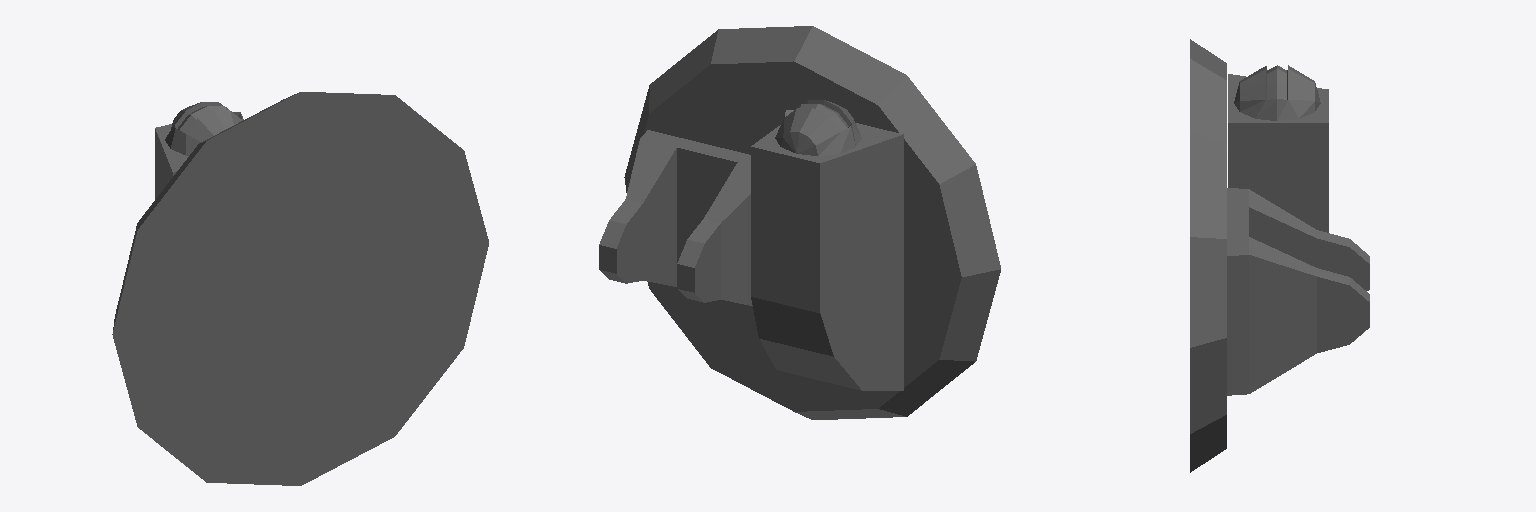
The model's file is turret.obj.
The picture shows the model from 3 angles: view 1: azimuth 30°, elevation 25°; view 2: azimuth 150°, elevation 25°; view 3: azimuth 270°, elevation 25°; orthographic projection.
Visible parts, largest first — view 1: turret; view 2: turret; view 3: turret.
Boxes of the visible parts, <box> form: turret: <box>112,92,488,485</box>; turret: <box>599,26,1000,419</box>; turret: <box>1190,39,1369,472</box>.
Size of the model in its own units: 9.35 by 9.35 by 3.86.